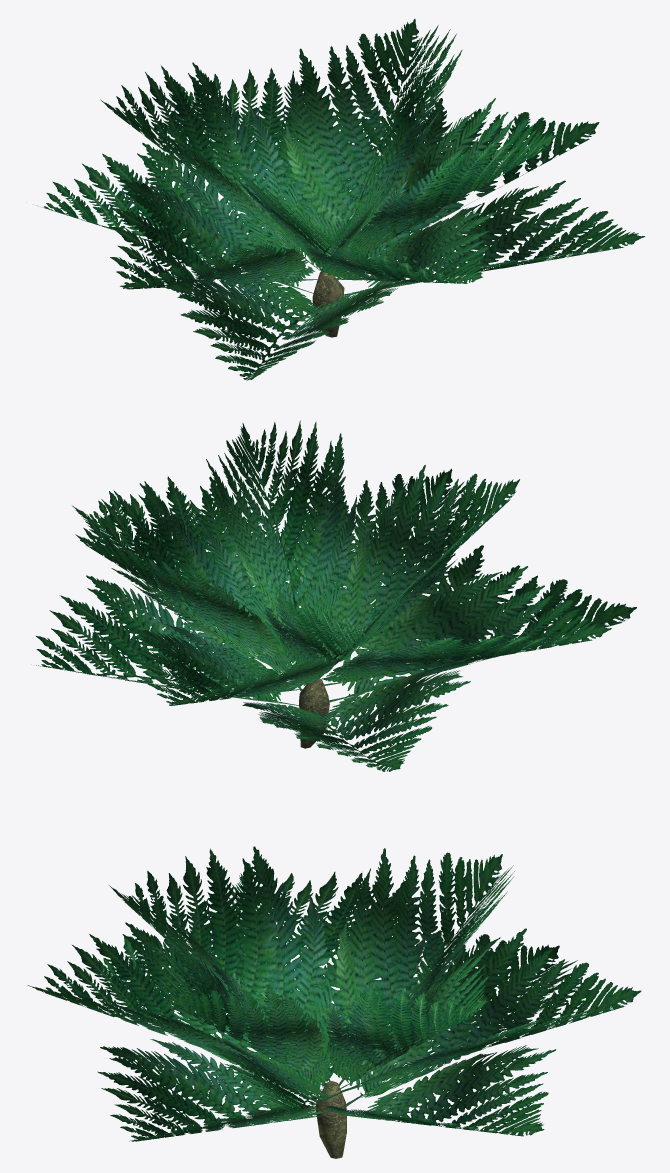
File: fern_giantfern_blue_l0.fbx
3 renders of one model, top to bottom at view 1: azimuth 30°, elevation 25°; view 2: azimuth 150°, elevation 25°; view 3: azimuth 270°, elevation 25°, orthographic. The views are drawn at different scales.
Parts seen in each view (by area): view 1: mesh_node; view 2: mesh_node; view 3: mesh_node.
Boxes of the visible parts, box(x1,y1,x2,y2) form: mesh_node: box(37, 19, 645, 380); mesh_node: box(36, 420, 636, 771); mesh_node: box(27, 846, 641, 1158).
Bounding box in the file's own units: 8.49 × 3.91 × 8.49.
